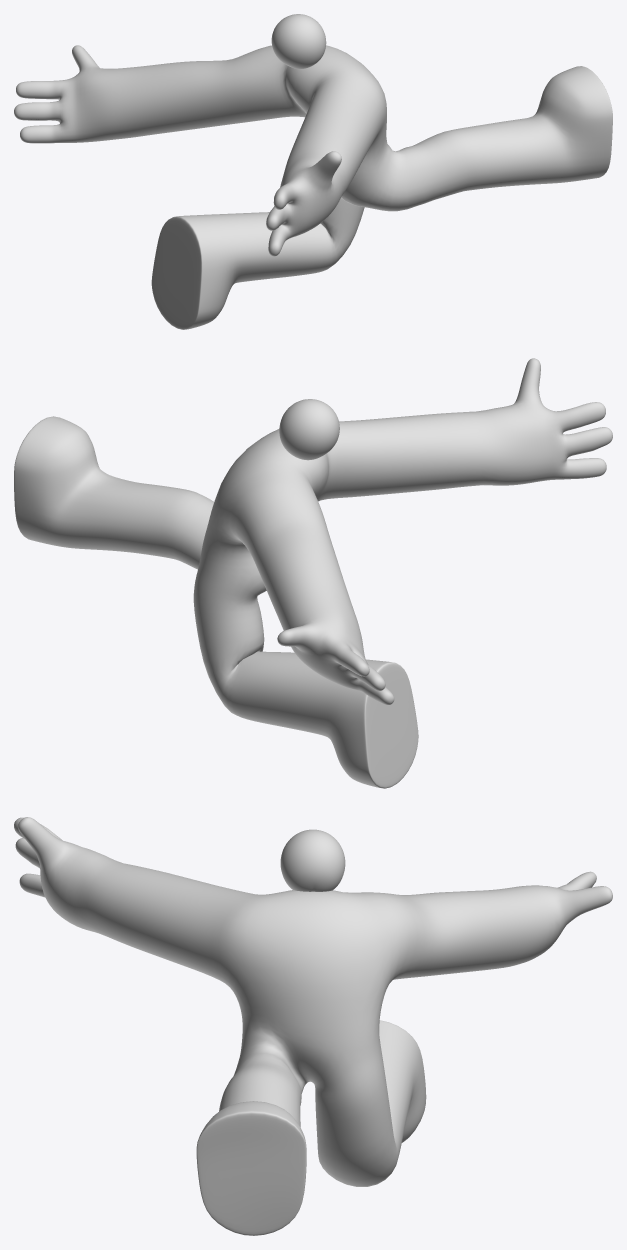
File: kv2-man5.gltf
3 views of the same model, one above another, from view 1: azimuth 30°, elevation 25°; view 2: azimuth 150°, elevation 25°; view 3: azimuth 270°, elevation 25° (orthographic). The views are drawn at different scales.
Parts seen in each view (by area): view 1: man8; view 2: man8; view 3: man8.
Part boxes in pixels (box(x1,y1,x2,y2)): man8: box(14, 14, 612, 329); man8: box(14, 358, 612, 788); man8: box(14, 817, 612, 1235).
Size of the model in its own units: 41.8 by 27.05 by 40.33.
1 material, 1 textured.
